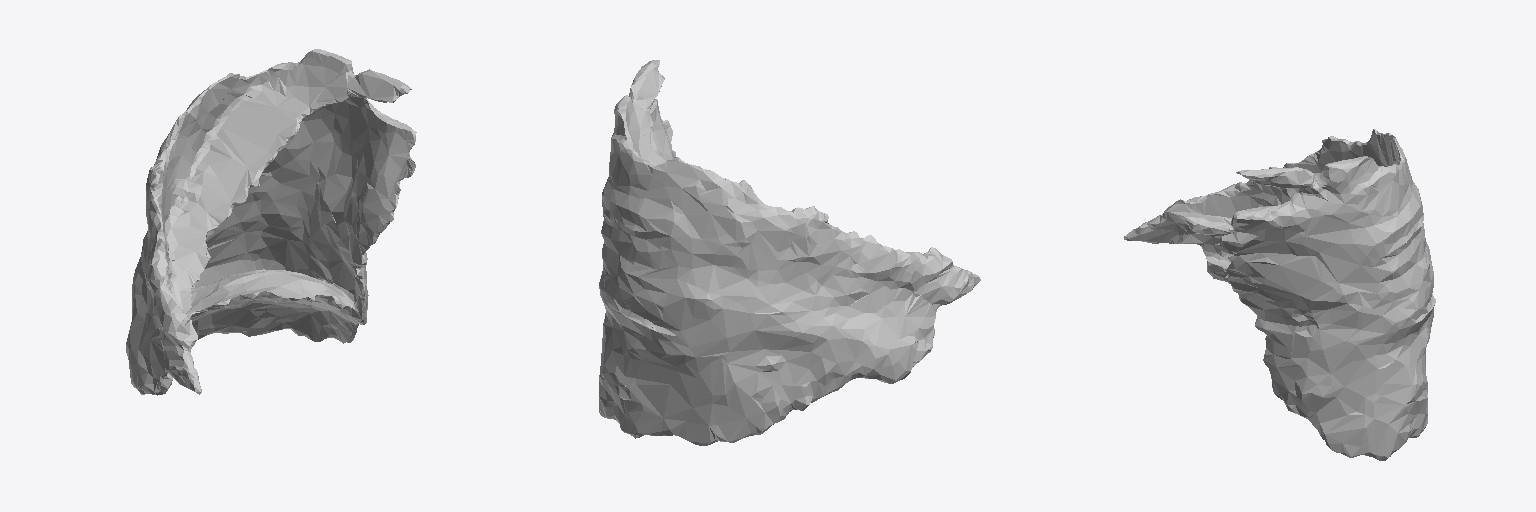
3 views of the same model, side by side, from view 1: azimuth 30°, elevation 25°; view 2: azimuth 150°, elevation 25°; view 3: azimuth 270°, elevation 25° (orthographic).
Parts seen in each view (by area): view 1: Polygonal_Model_6_Triangles_0; view 2: Polygonal_Model_6_Triangles_0; view 3: Polygonal_Model_6_Triangles_0.
Boxes of the visible parts, box(x1,y1,x2,y2) form: Polygonal_Model_6_Triangles_0: box(126, 49, 416, 395); Polygonal_Model_6_Triangles_0: box(599, 60, 980, 445); Polygonal_Model_6_Triangles_0: box(1124, 129, 1435, 460).
Size of the model in its own units: 3.91 by 4.01 by 3.78.